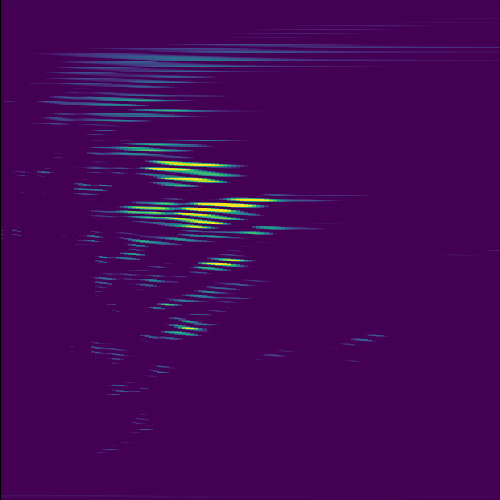semblance: (174, 192, 285, 237), (139, 159, 244, 191)
